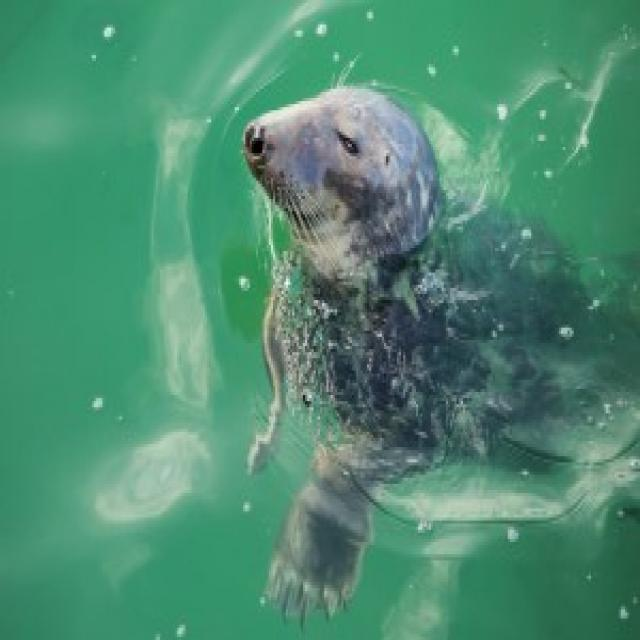Seal: (235, 54, 640, 606)
